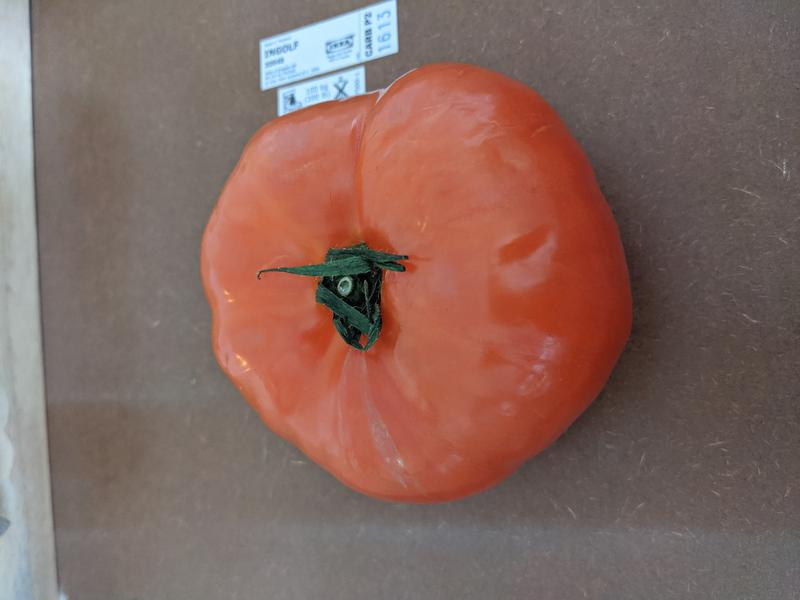tomato: (199, 62, 636, 505)
